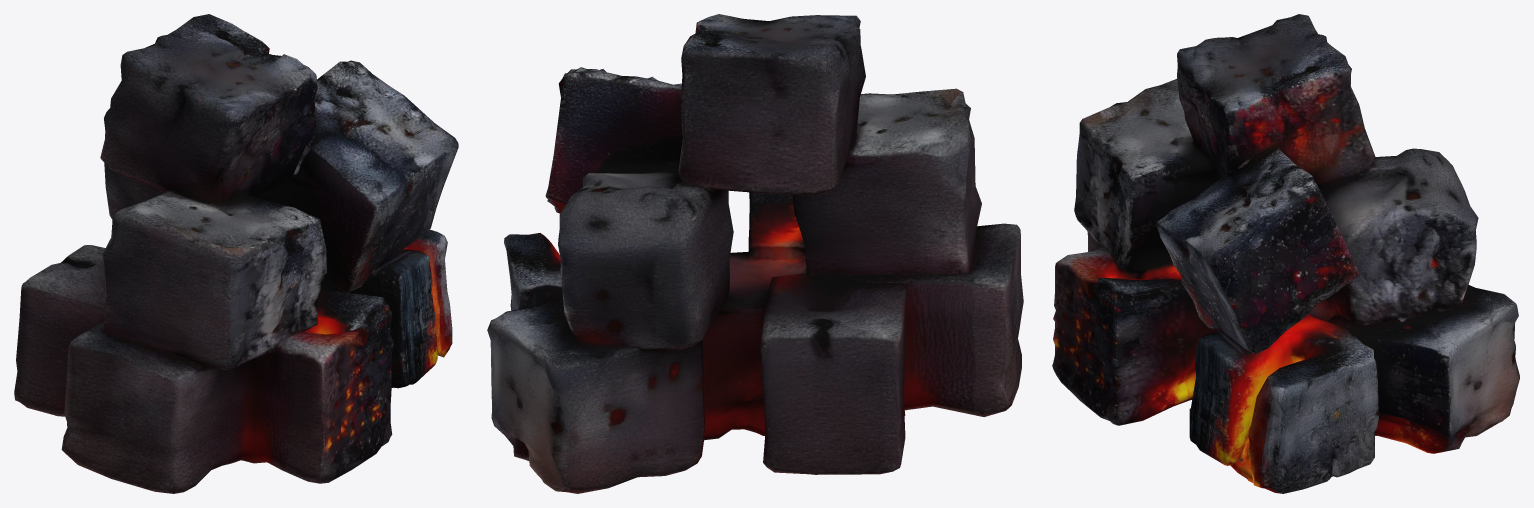
File: Coal_Dummy.fbx
3 renders of one model, left to right at view 1: azimuth 30°, elevation 25°; view 2: azimuth 150°, elevation 25°; view 3: azimuth 270°, elevation 25°, orthographic. The views are drawn at different scales.
Visible parts, largest first — view 1: tripo_node_d1b098fd; view 2: tripo_node_d1b098fd; view 3: tripo_node_d1b098fd.
Part boxes in pixels (x1,y1,x2,y2): tripo_node_d1b098fd: (14, 14, 458, 493); tripo_node_d1b098fd: (487, 14, 1023, 493); tripo_node_d1b098fd: (1052, 14, 1519, 493).
Size of the model in its own units: 0.9716 by 0.7914 by 0.9773.
